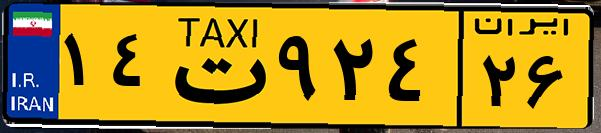1: (57, 26, 110, 100)
2: (330, 28, 385, 110), (475, 38, 525, 113)
4: (385, 28, 445, 110), (110, 28, 158, 98)
6: (525, 38, 570, 115)
9: (270, 28, 330, 110)
ت: (158, 12, 270, 120)
